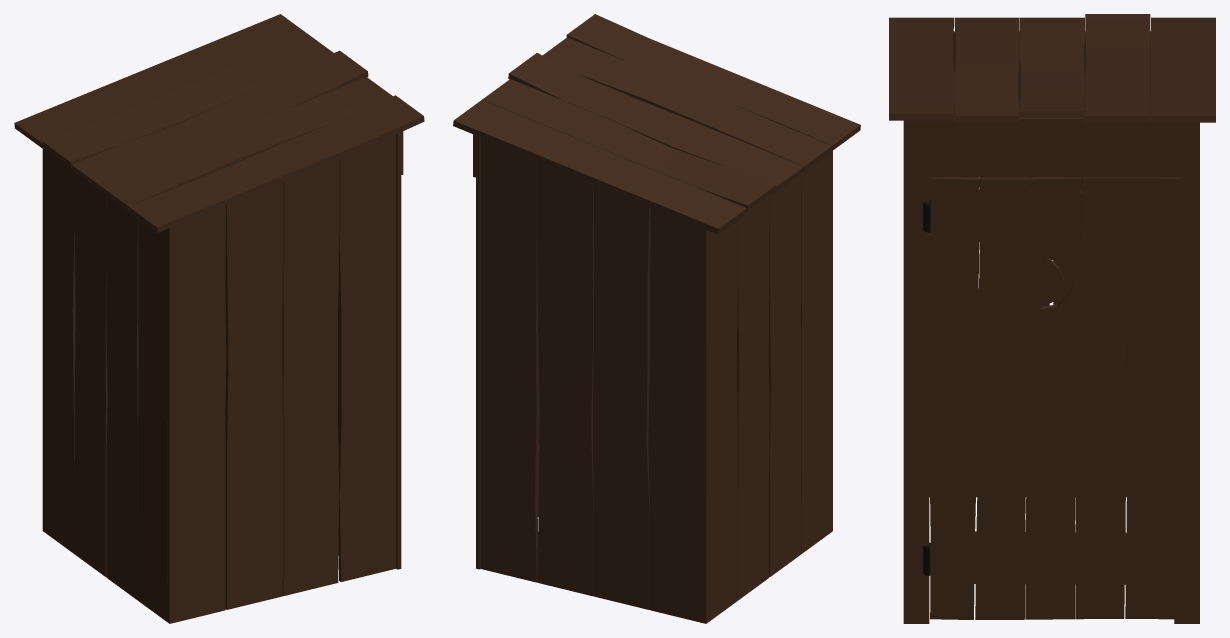
The model's file is s_toilet.FBX.
3 views of the same model, side by side, from view 1: azimuth 30°, elevation 25°; view 2: azimuth 150°, elevation 25°; view 3: azimuth 270°, elevation 25° (orthographic). The views are drawn at different scales.
Parts seen in each view (by area): view 1: s_outhouse; view 2: s_outhouse; view 3: s_door, s_outhouse.
Part boxes in pixels (x1,y1,x2,y2): s_outhouse: [14, 14, 424, 623]; s_outhouse: [453, 14, 860, 623]; s_door: [923, 177, 1180, 619]; s_outhouse: [889, 14, 1215, 623].
Size of the model in its own units: 1.15 by 1.87 by 1.06.
